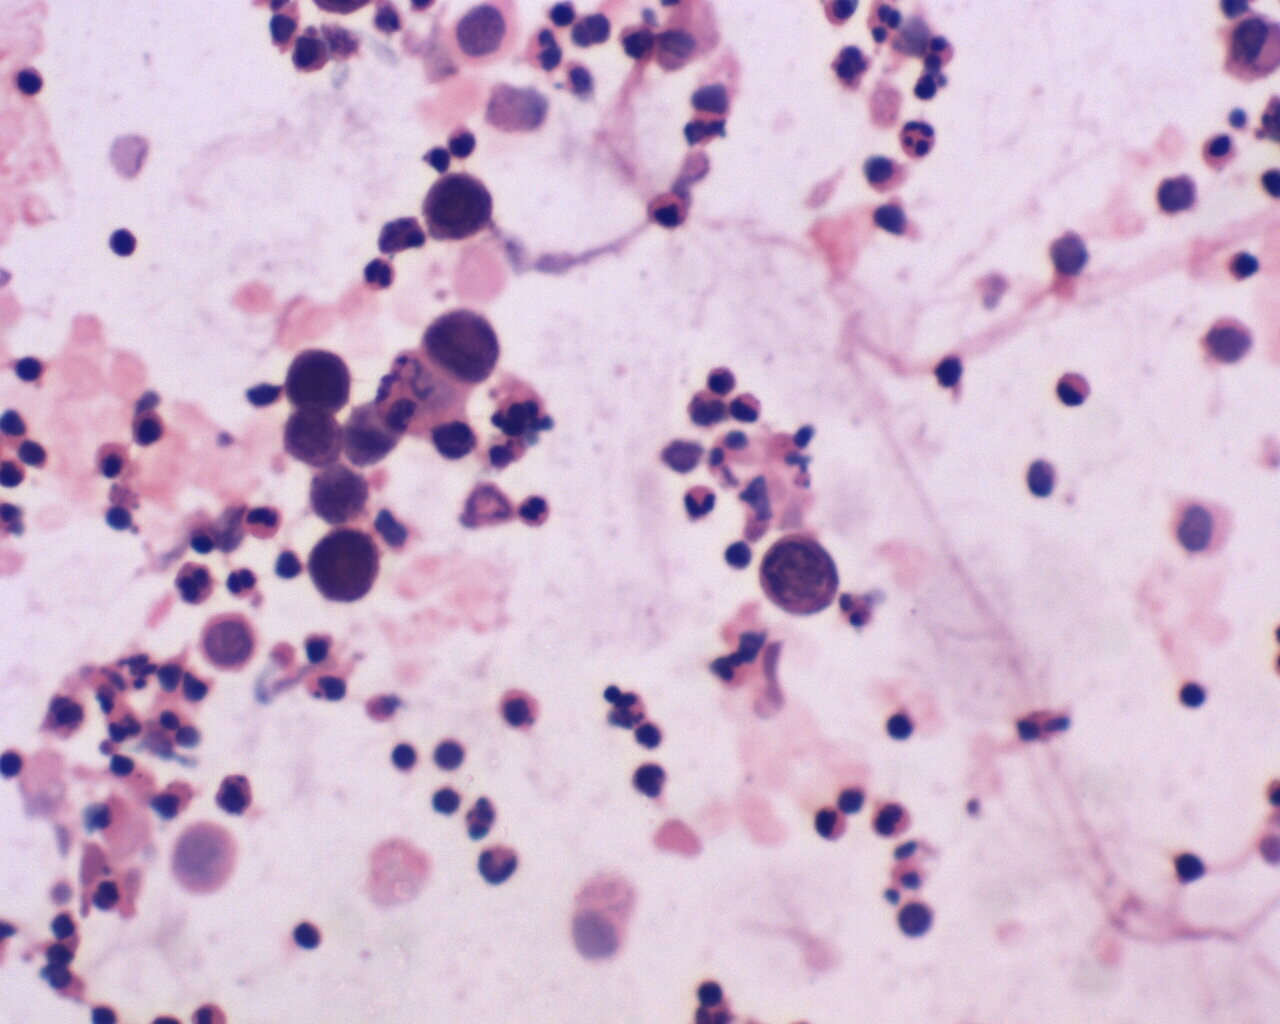ab: (758, 529, 843, 621), (424, 305, 501, 385), (303, 527, 380, 604), (422, 173, 502, 248), (287, 350, 354, 413), (281, 408, 343, 467)
lymph: (290, 913, 332, 960), (6, 57, 52, 99), (387, 734, 427, 778), (879, 705, 921, 748), (103, 223, 143, 263), (11, 350, 52, 389), (1176, 677, 1213, 714), (720, 534, 758, 571)
neutro: (519, 487, 561, 531), (245, 503, 289, 543), (871, 801, 914, 843), (901, 115, 940, 160), (679, 485, 721, 519), (227, 565, 264, 602)
